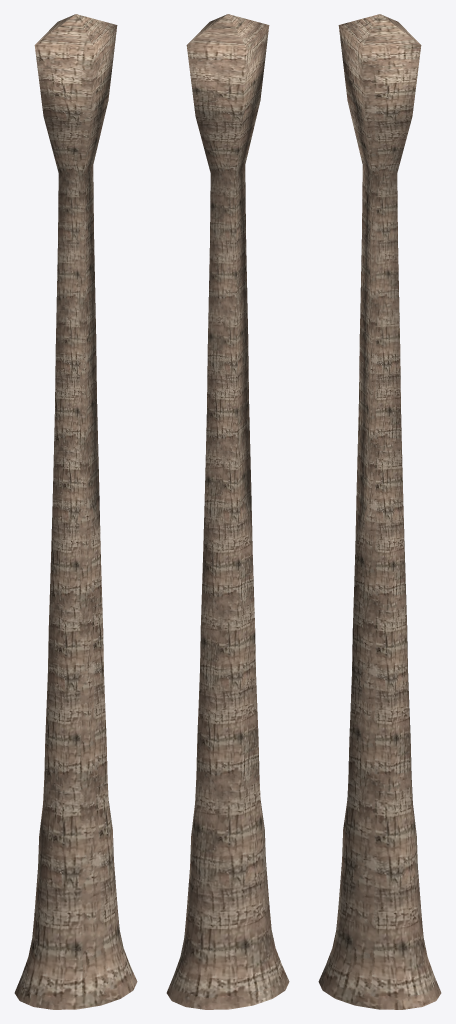
Rendered from m_palm_p2_1_trunk_0.001_lev2.glb.
3 views of the same model, side by side, from view 1: azimuth 30°, elevation 25°; view 2: azimuth 210°, elevation 25°; view 3: azimuth 330°, elevation 25° (orthographic).
Visible parts, largest first — view 1: m_palm_p2_1_trunk_0.001_lev2; view 2: m_palm_p2_1_trunk_0.001_lev2; view 3: m_palm_p2_1_trunk_0.001_lev2.
Part boxes in pixels (bbox=[...]): m_palm_p2_1_trunk_0.001_lev2: bbox=[14, 14, 137, 1009]; m_palm_p2_1_trunk_0.001_lev2: bbox=[166, 14, 289, 1009]; m_palm_p2_1_trunk_0.001_lev2: bbox=[318, 14, 441, 1009].
Size of the model in its own units: 0.4987 by 4.12 by 0.3826.
1 material, 1 textured.
